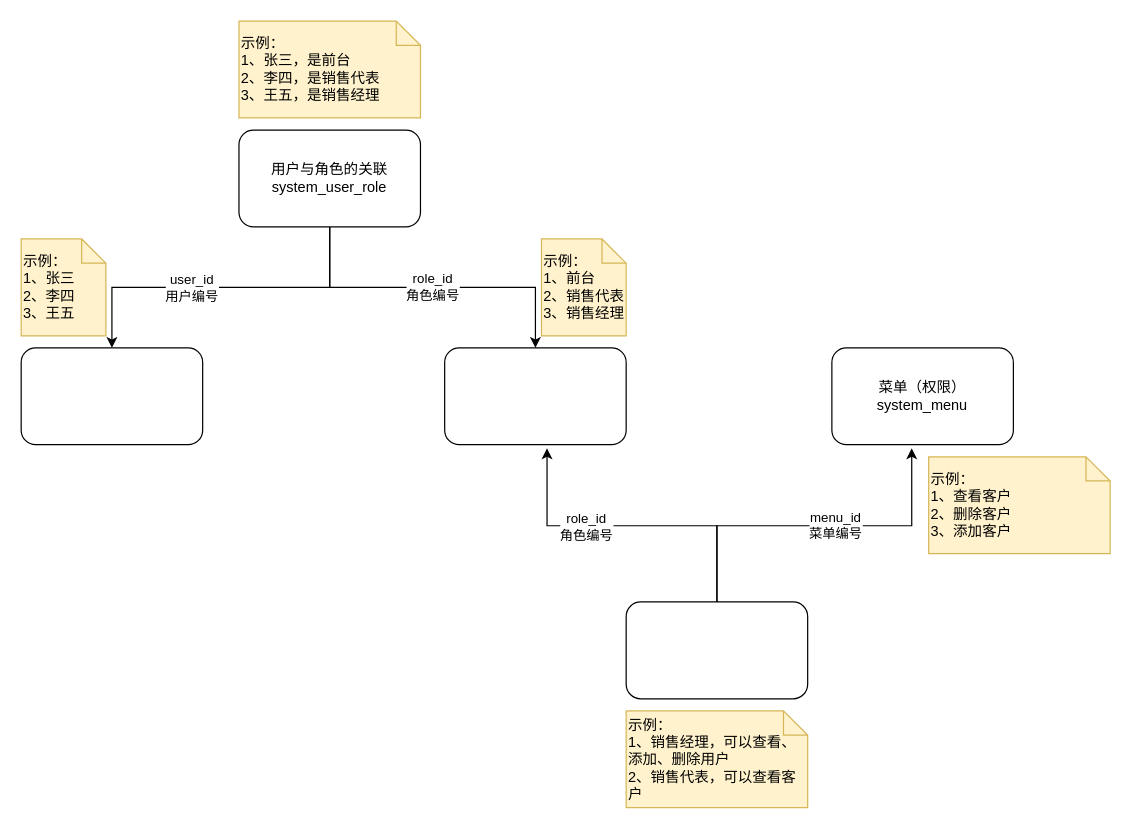
Some shapes in this 1131 by 829 pixel diagram are drawn without their labels. Each missing label, with the centre of its shape:
用户 system_user: point (111, 396)
角色 system_role: point (534, 396)
角色与权限的关联 system_role_menu: point (716, 650)
